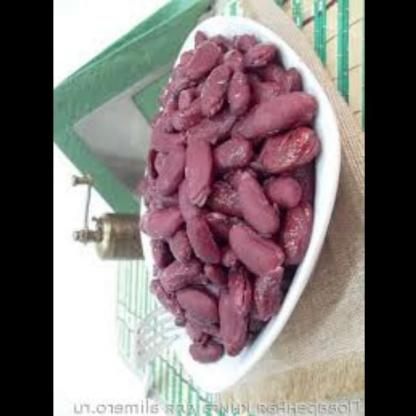fasol: (134, 33, 334, 365)
